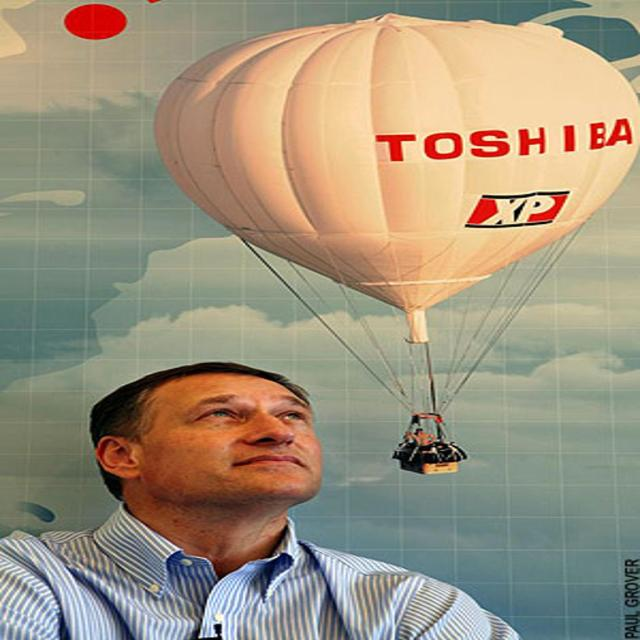Face: (114, 368, 340, 529)
